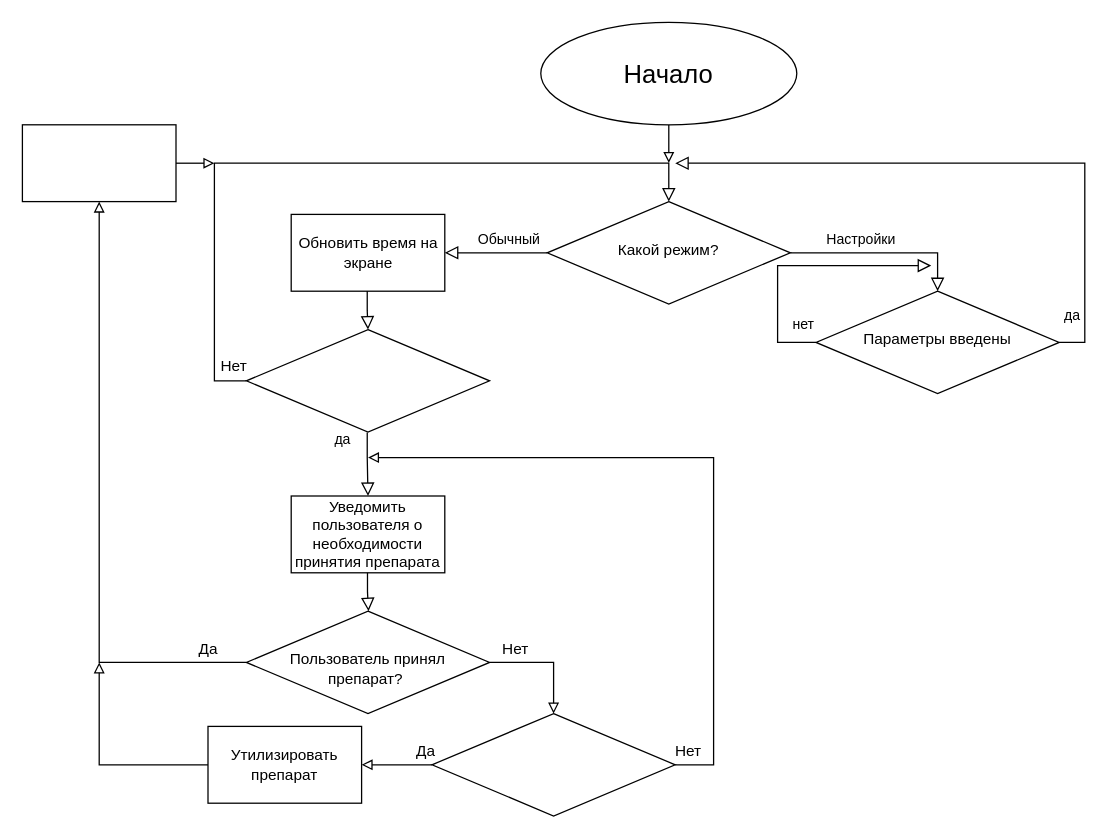
Some shapes in this 1120 by 838 pixel diagram are drawn without their labels. Each missing label, with the box of its shape:
Время на приём вышло?: (431, 712, 675, 816)
Настоящие время совпадает с временами таймеров ?: (245, 328, 490, 432)
Сделать запись на SD карту: (21, 124, 176, 202)
